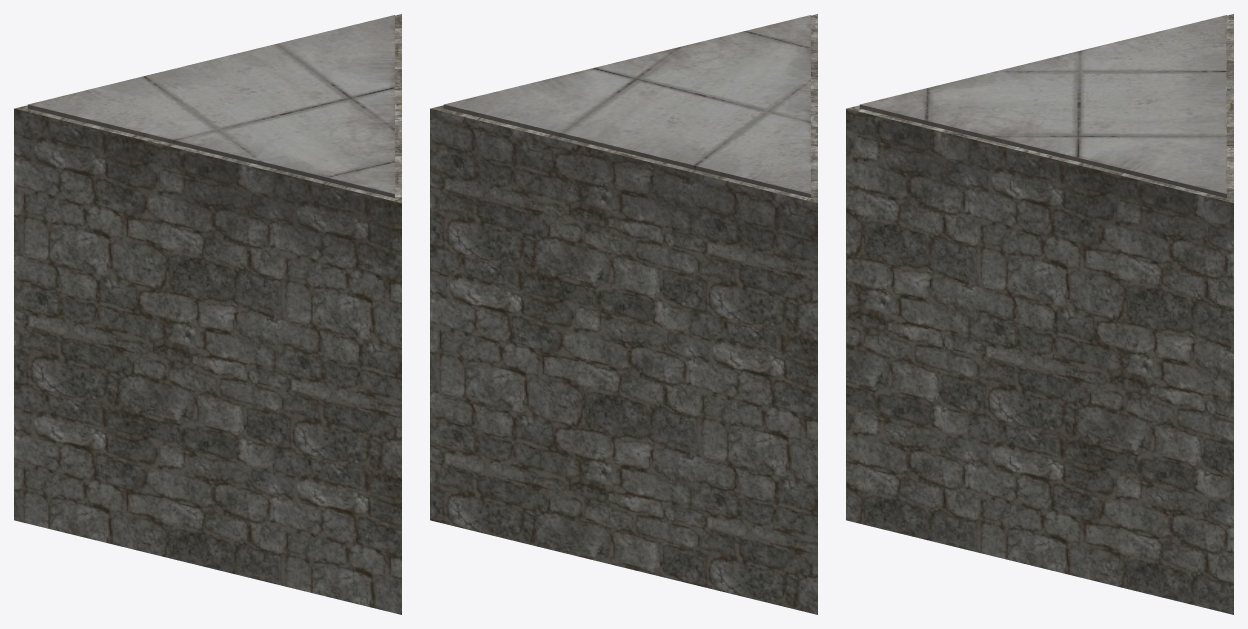
File: stone_foundation_triangle_high_textured.glb
3 renders of one model, left to right at view 1: azimuth 30°, elevation 25°; view 2: azimuth 150°, elevation 25°; view 3: azimuth 270°, elevation 25°, orthographic.
Parts seen in each view (by area): view 1: Circle; view 2: Circle; view 3: Circle.
Part boxes in pixels (x1,y1,x2,y2): Circle: [14, 14, 401, 614]; Circle: [430, 14, 817, 614]; Circle: [846, 14, 1233, 614].
Bounding box in the file's own units: 2 × 2.05 × 1.73.
Materials: 1 (1 with a texture image).
